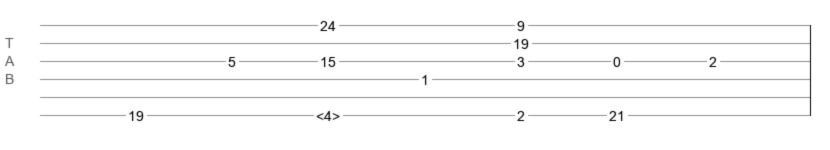0: (613, 54, 621, 64)
1: (421, 72, 429, 82)
15: (320, 54, 336, 64)
19: (128, 108, 144, 118), (513, 36, 529, 46)
2: (517, 108, 525, 118), (709, 54, 717, 64)
21: (609, 108, 625, 118)
24: (320, 18, 336, 28)
3: (517, 54, 525, 64)
5: (228, 54, 236, 64)
9: (517, 18, 525, 28)
harmonic: (316, 108, 340, 118)
